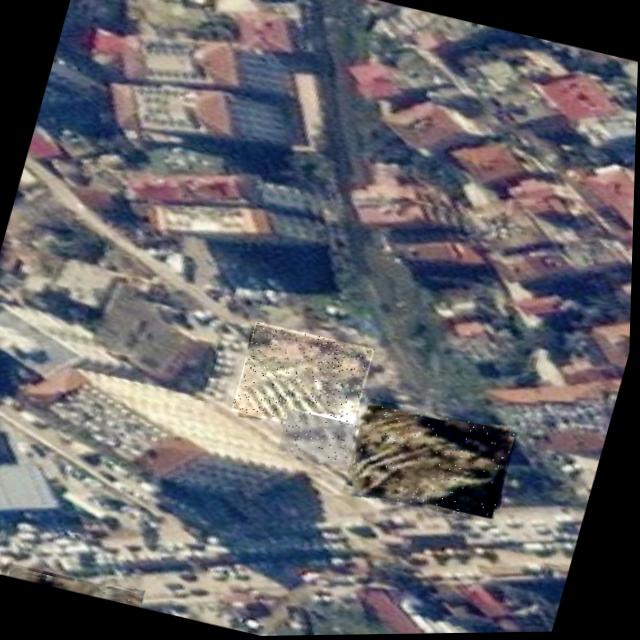Rubble: (345, 396, 521, 527), (233, 320, 377, 440), (11, 561, 148, 609), (280, 408, 360, 468)
